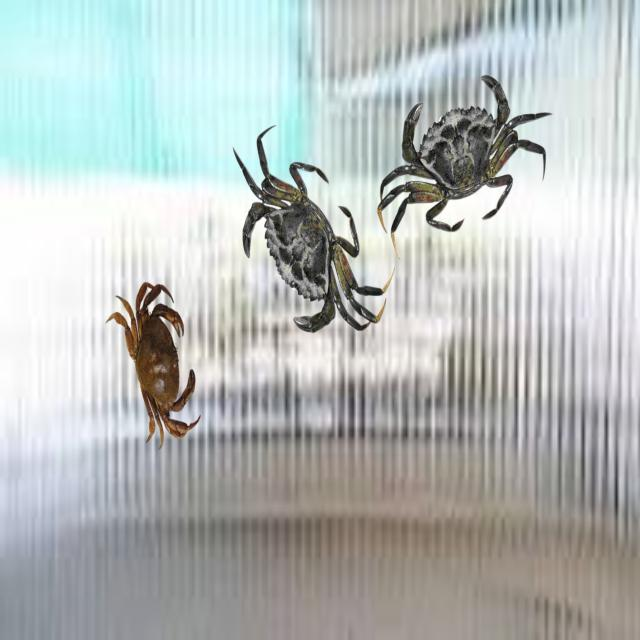European_Green_Crab: (201, 94, 404, 386), (360, 45, 567, 267)
